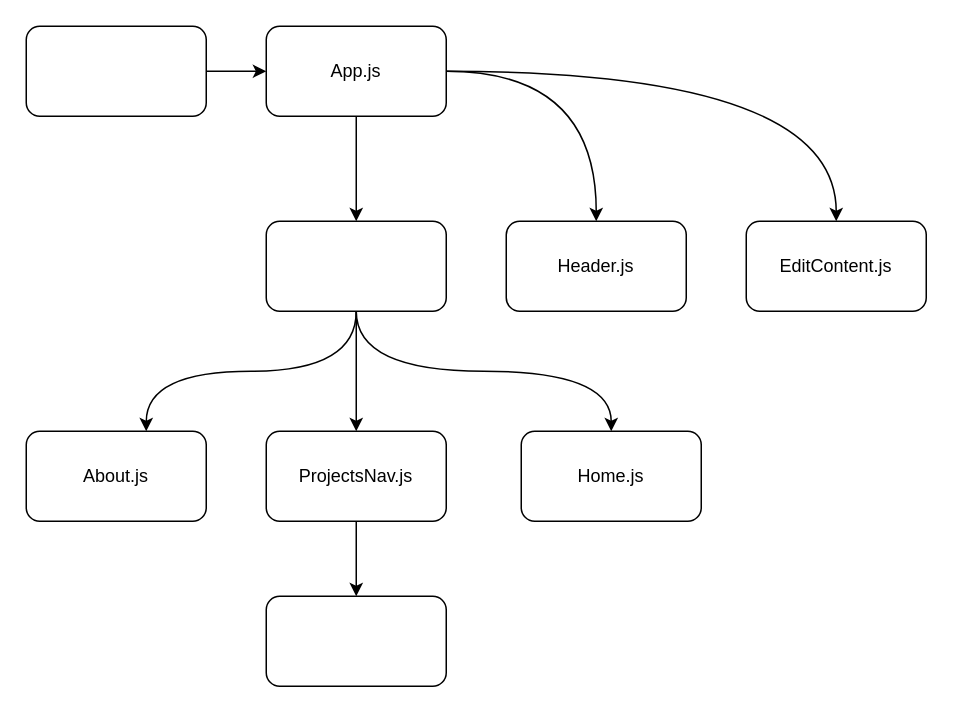
Image size: 953x713. Some labels were removed from this diagram. Each missing label, with the centre of its shape:
index.js: the point at 115,70
Nav.js: the point at 355,265
ProjectPage.js: the point at 355,640
